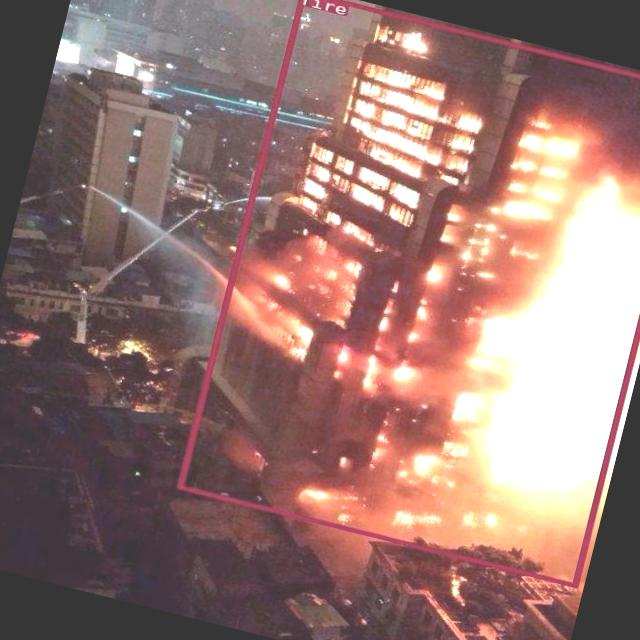fire: (175, 0, 640, 587)
